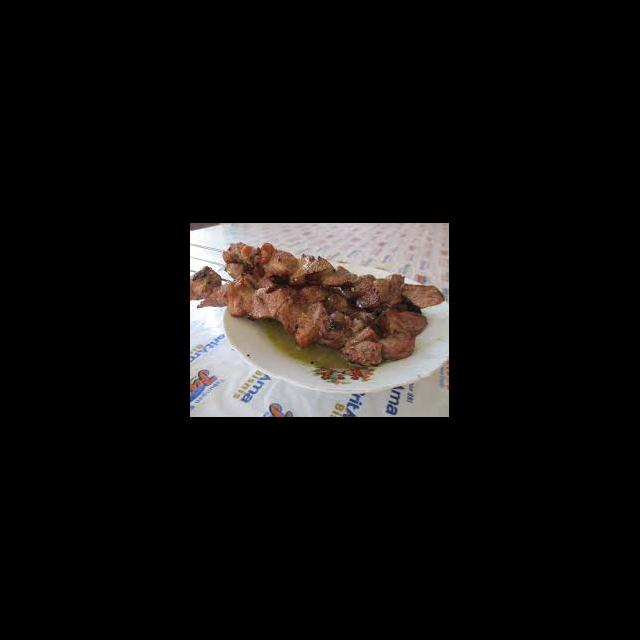food_waste: (254, 273, 401, 342)
